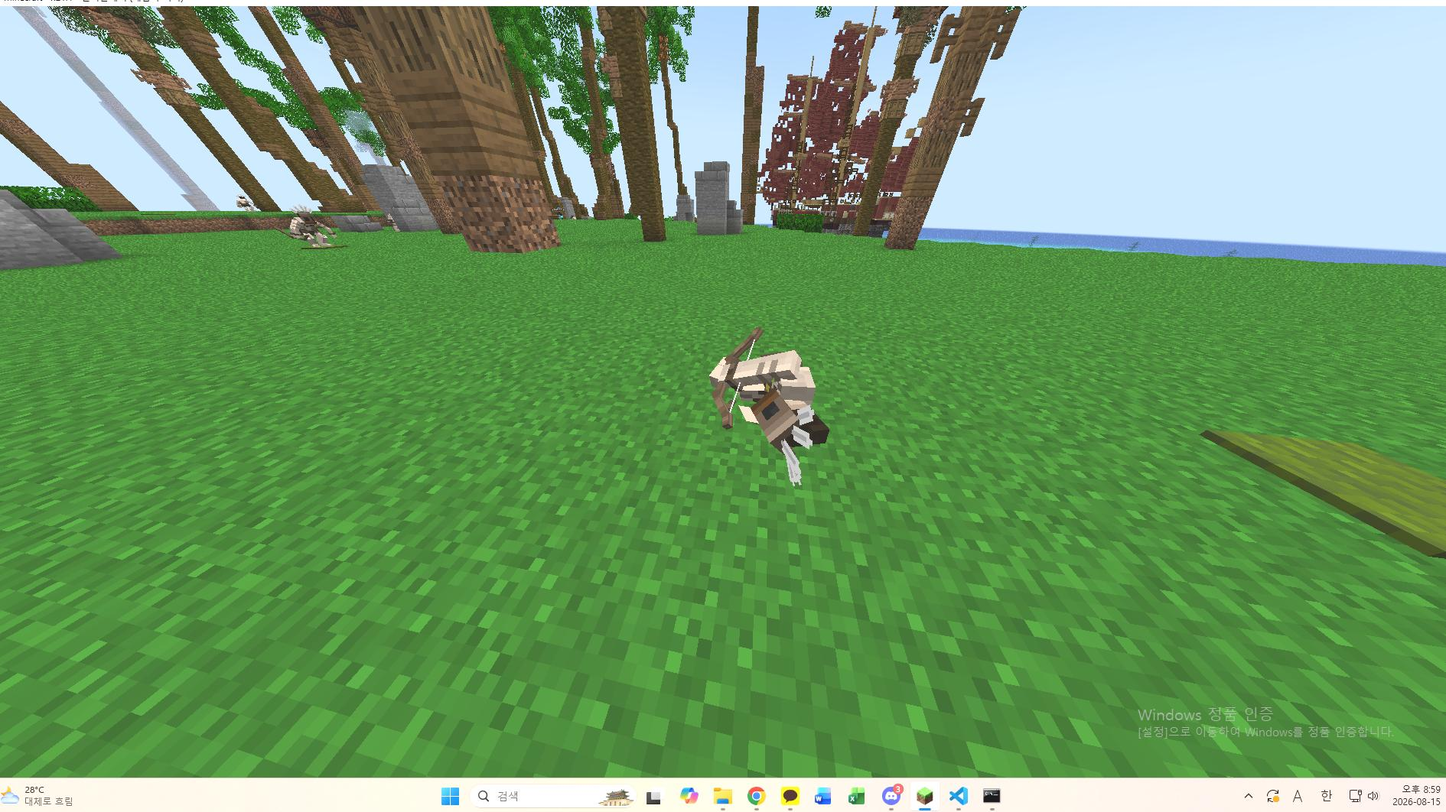bow_indian: (682, 312, 865, 479)
